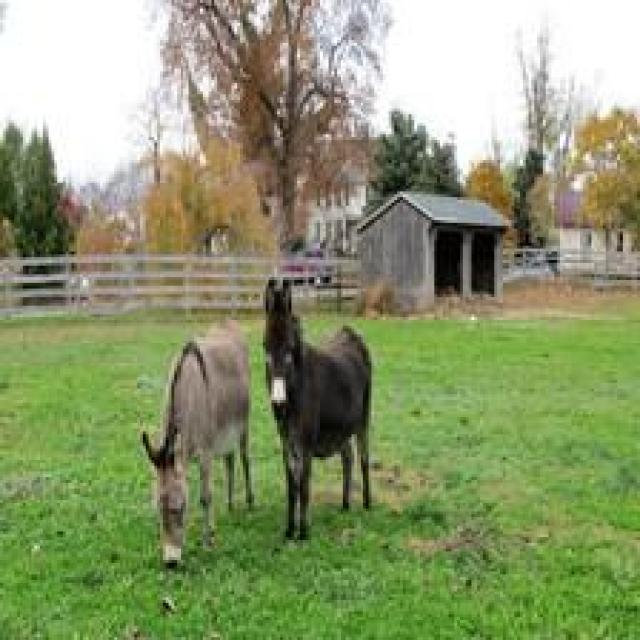Donkey: (260, 274, 371, 540), (140, 317, 254, 569)
